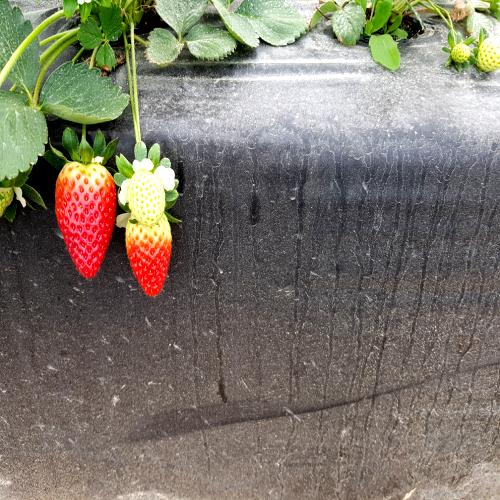partially-ripe: (121, 201, 179, 308)
ripe: (53, 161, 119, 282)
